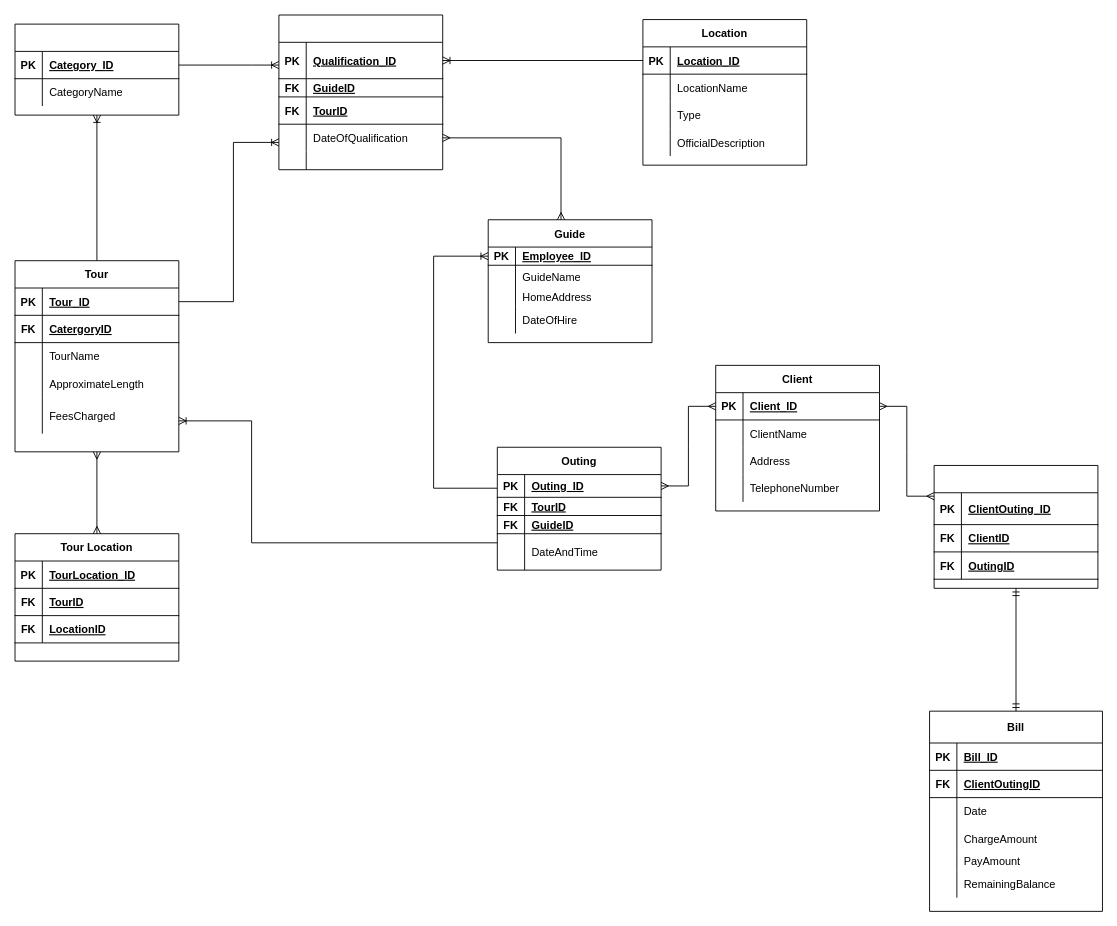
Some shapes in this 1117 by 926 pixel diagram are drawn without their labels. The box of each missing label's shape, as (x1, y1, x2, y2) in pixels:
Catergory: (14, 23, 179, 115)
ClientOutings: (933, 465, 1098, 588)
TourQualifications: (278, 14, 443, 170)
